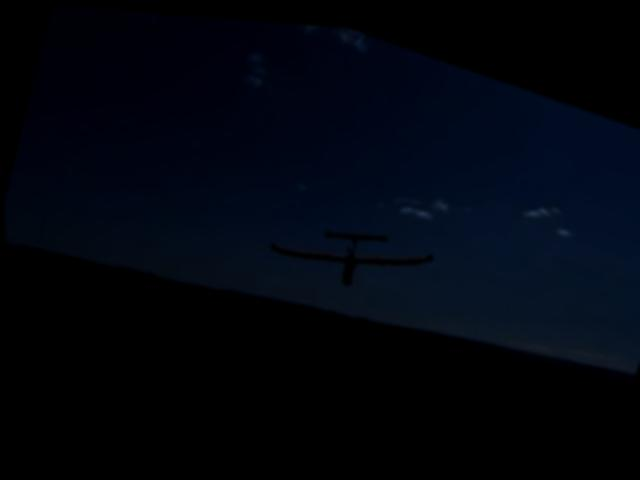uav: (263, 190, 437, 307)
